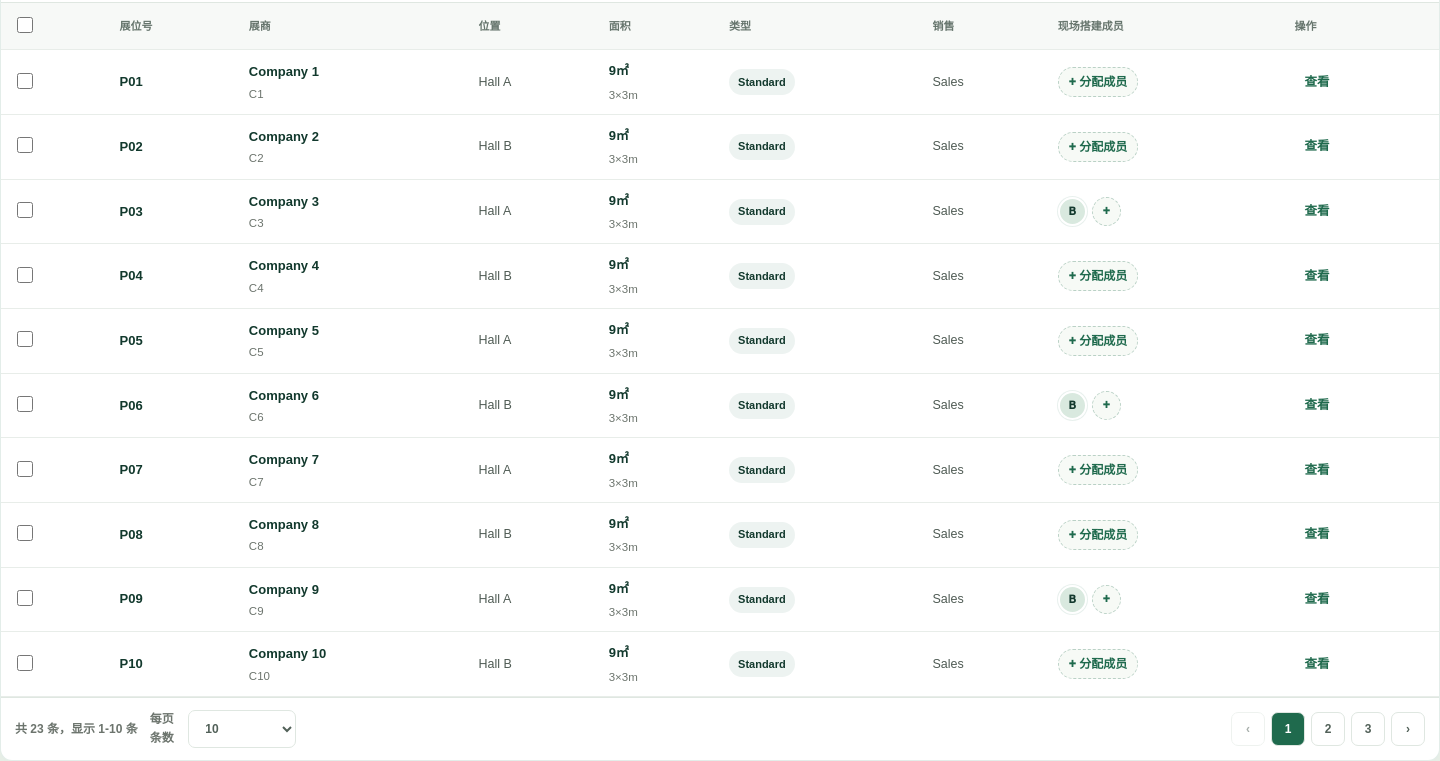
Test: ExhibitorDashboard › paginates exhibitors like a normal data table
(page scrolled)
Expected: the text "Company 1" is shown, [249,64,319,80]
Expected: the text "Company 10" is shown, [249,646,326,661]
Click the button named "下一页" at [1408, 729], box [1391,712,1425,746]
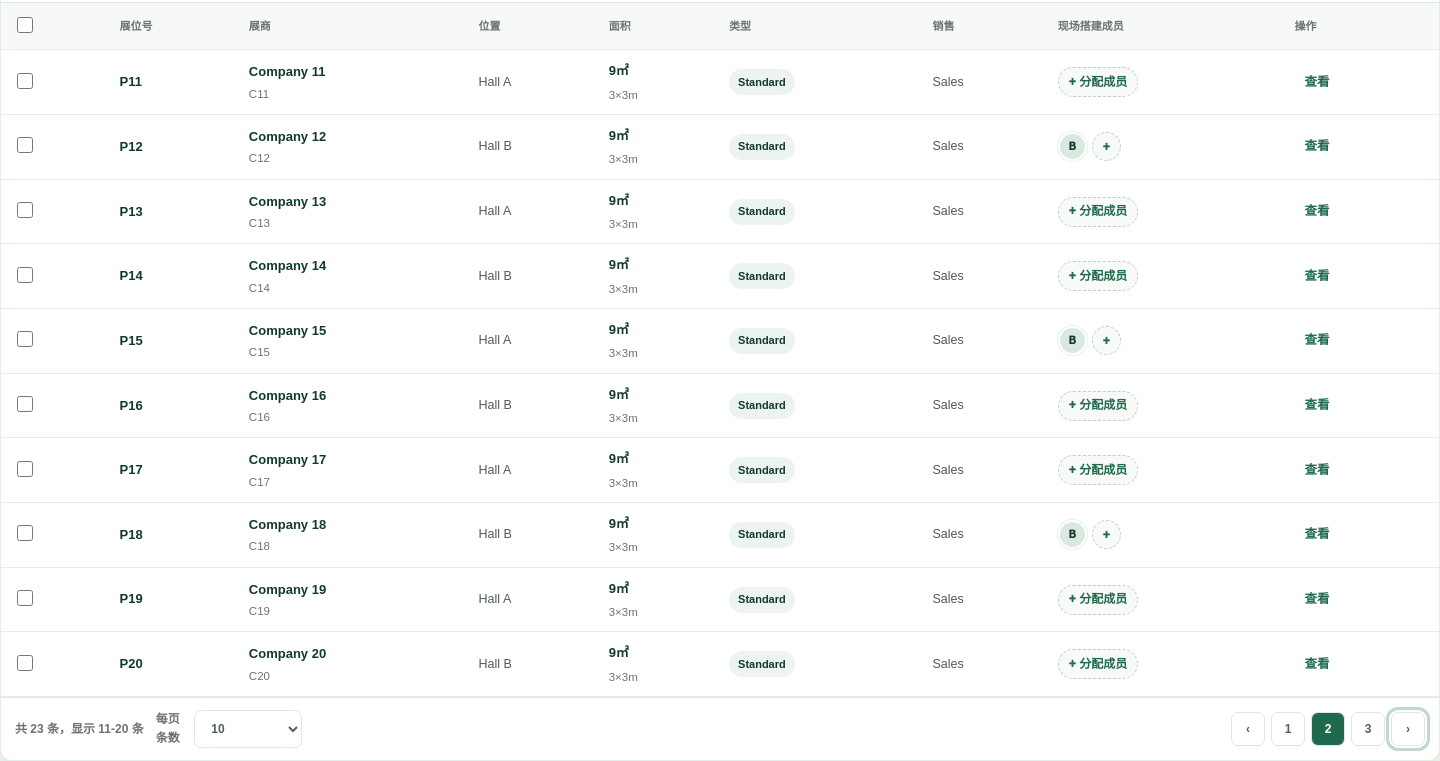
Result: the text "Company 11" is shown at [249,64,325,80]
Result: the text "Company 20" is shown at [249,646,326,661]
Result: the text "共 23 条，显示 11-20 条" is shown at [15,720,144,738]
Click the button "3" at [1368, 729], box [1351,712,1385,746]
(page scrolled)
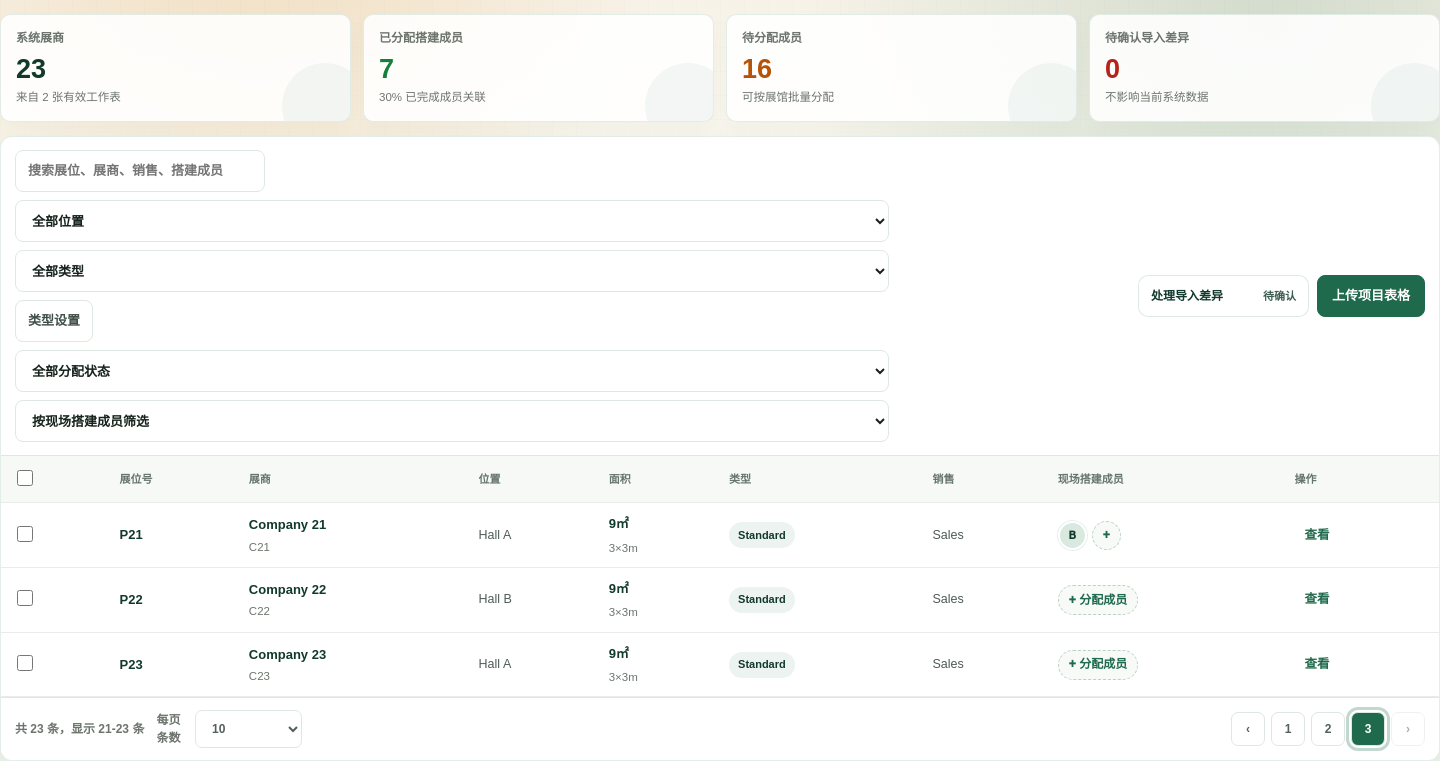
Result: the text "Company 20" is gone
Result: the text "Company 21" is shown at [249,518,326,532]
Result: the text "Company 23" is shown at [249,647,326,662]
Select "20" in the dropdown labelled "每页条数" at [249, 730], box [195,710,302,748]
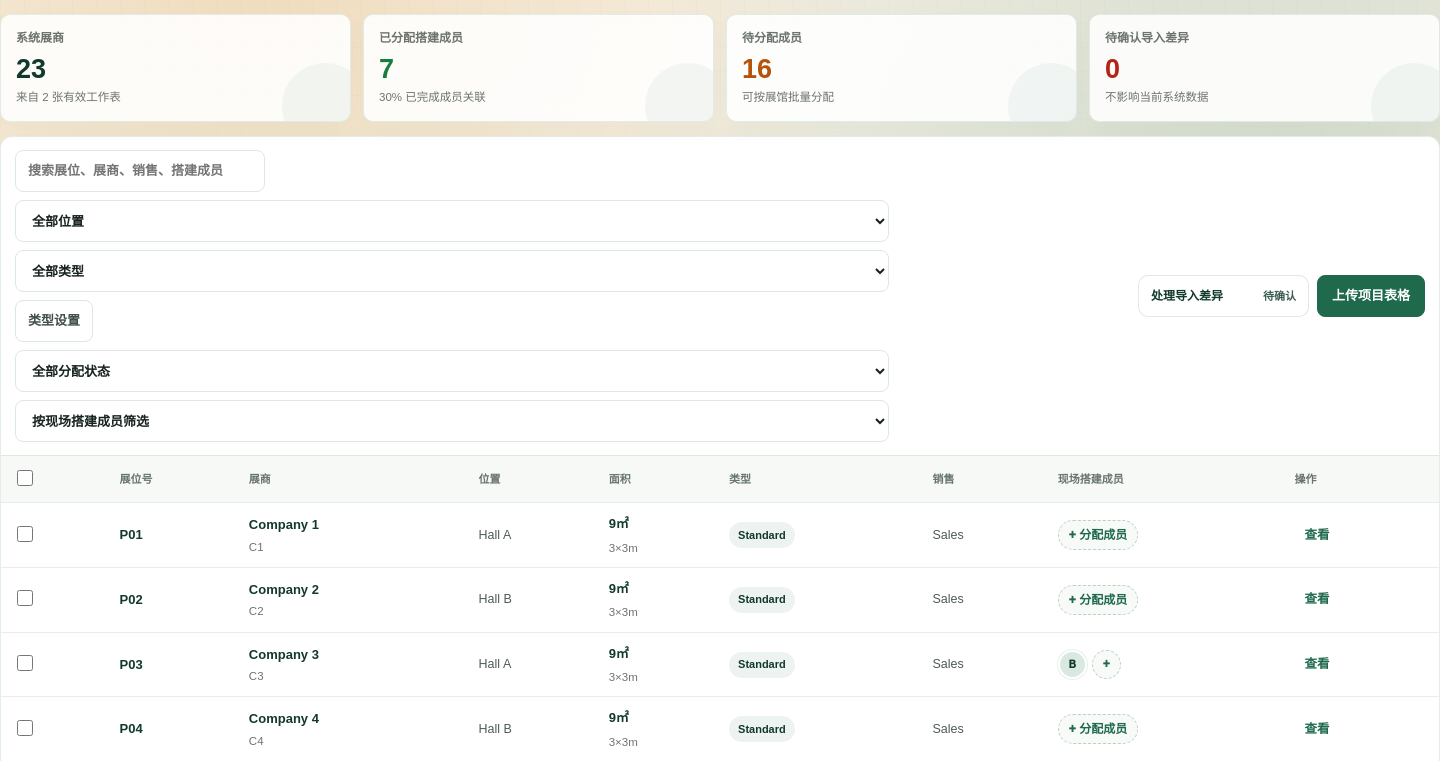
Result: the text "Company 1" is shown at [249,518,319,532]
Result: the text "Company 21" is gone
Type "Company 2" into the search field at [140, 171], box [15,150,265,192]
(page scrolled)
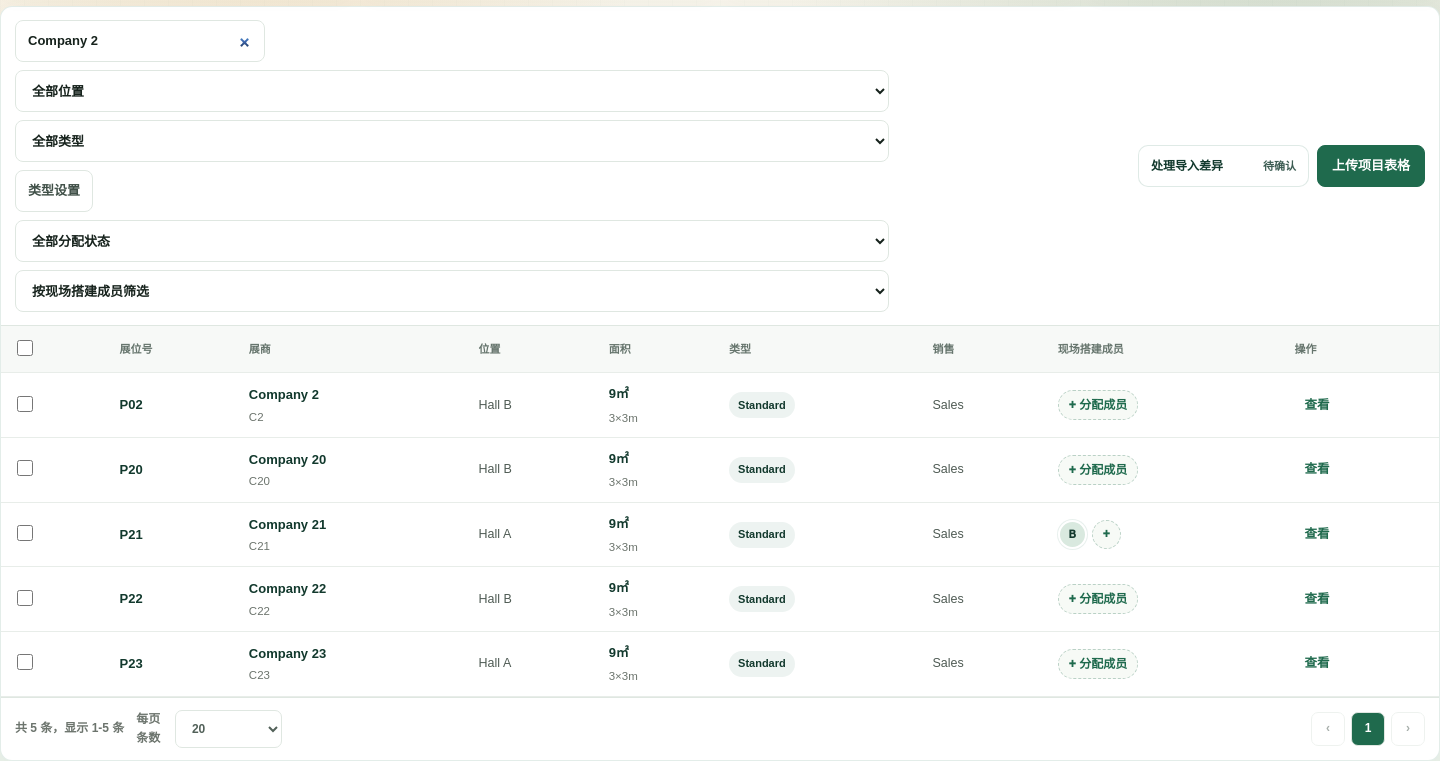
Result: the text "Company 2" is shown at [249,388,319,402]
Result: the text "共 5 条，显示 1-5 条" is shown at [15,720,124,738]
